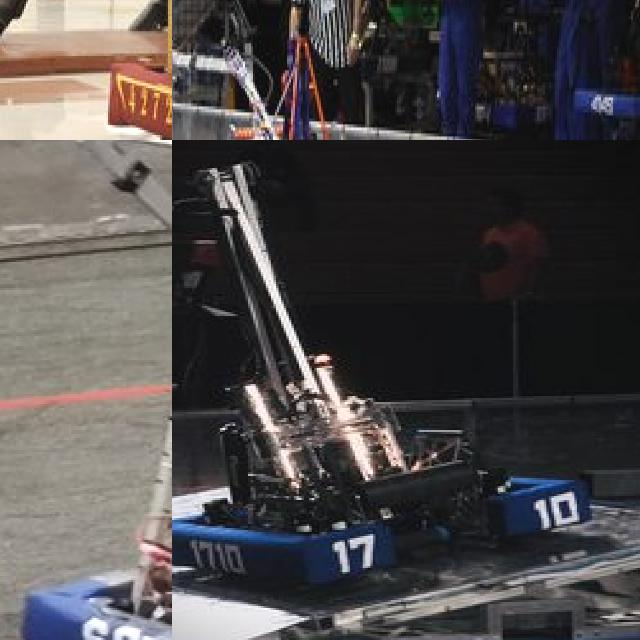FRC-Robots: (172, 153, 600, 585), (0, 140, 172, 640), (172, 0, 395, 140), (222, 20, 431, 140), (76, 0, 172, 140)
